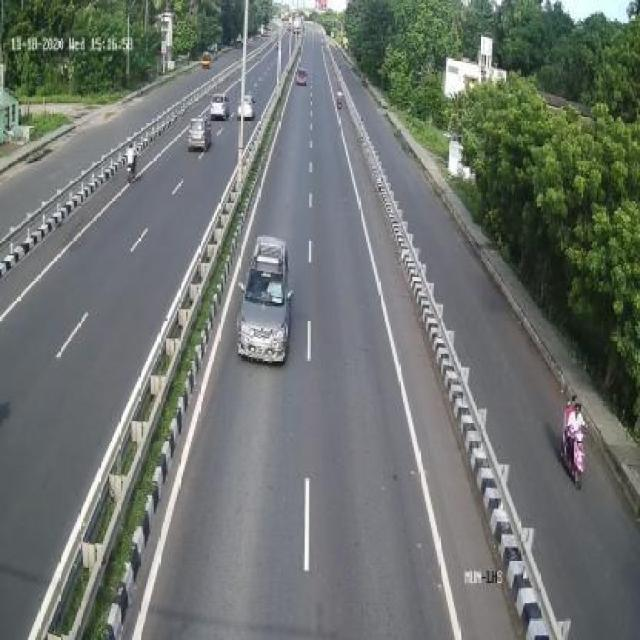car: (240, 229, 295, 371), (190, 112, 212, 157)
